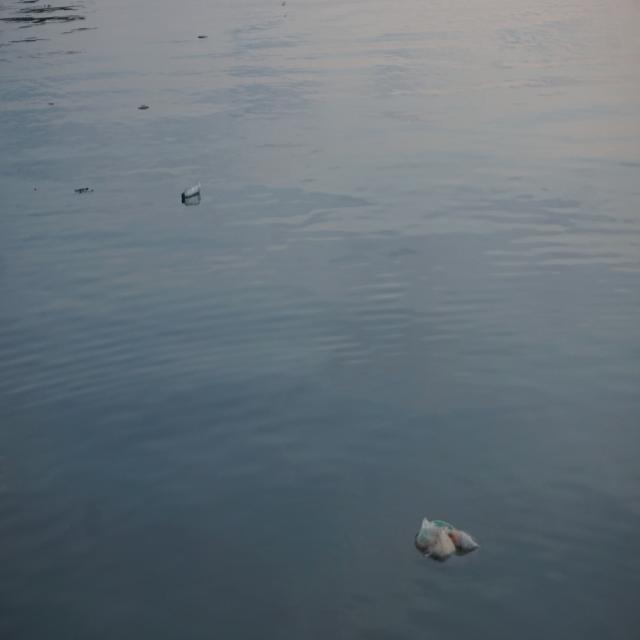Botol Plastik: (177, 175, 210, 206)
Kantong Plastik: (412, 505, 480, 584)
